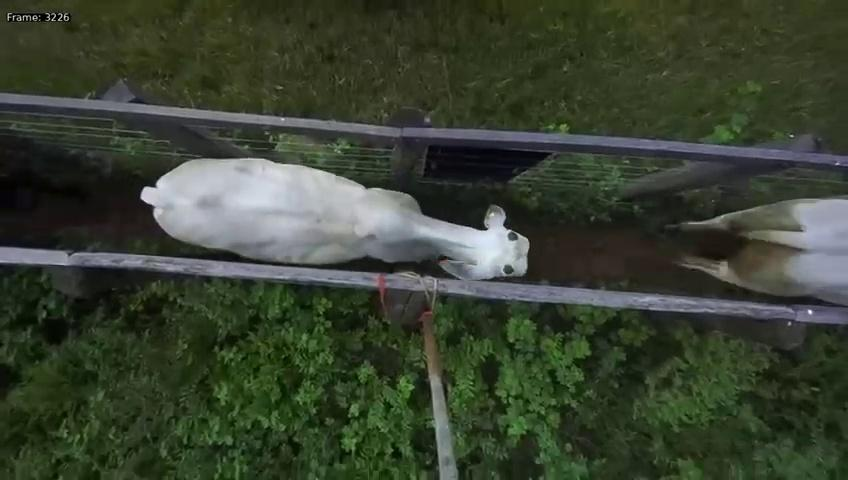cattle: (134, 150, 537, 286)
